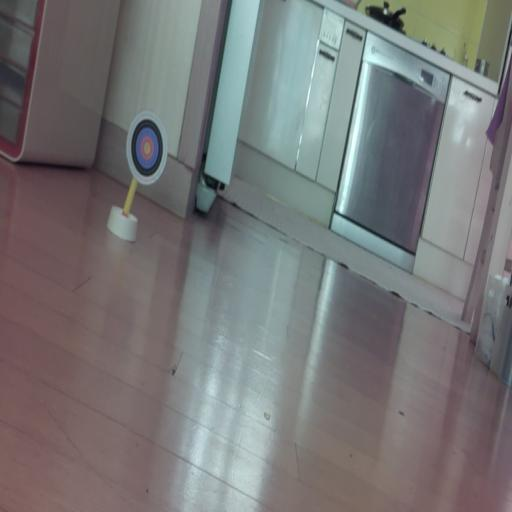target: (127, 112, 167, 184)
